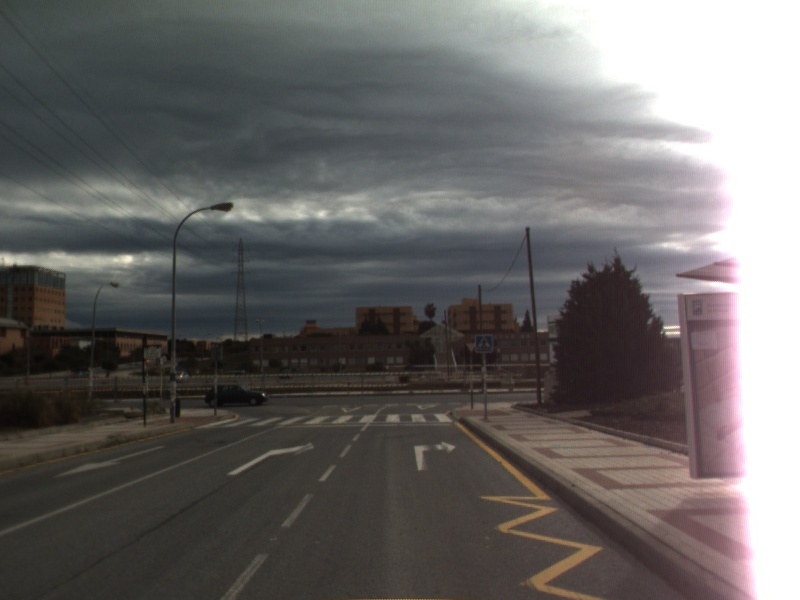RIGHT: (225, 440, 317, 477), (412, 439, 458, 472)
